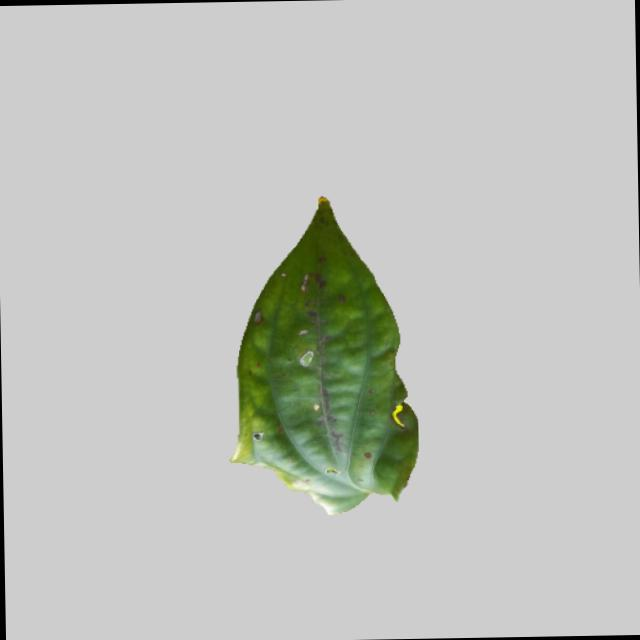yellow-mottle-virus: (223, 198, 430, 523)
